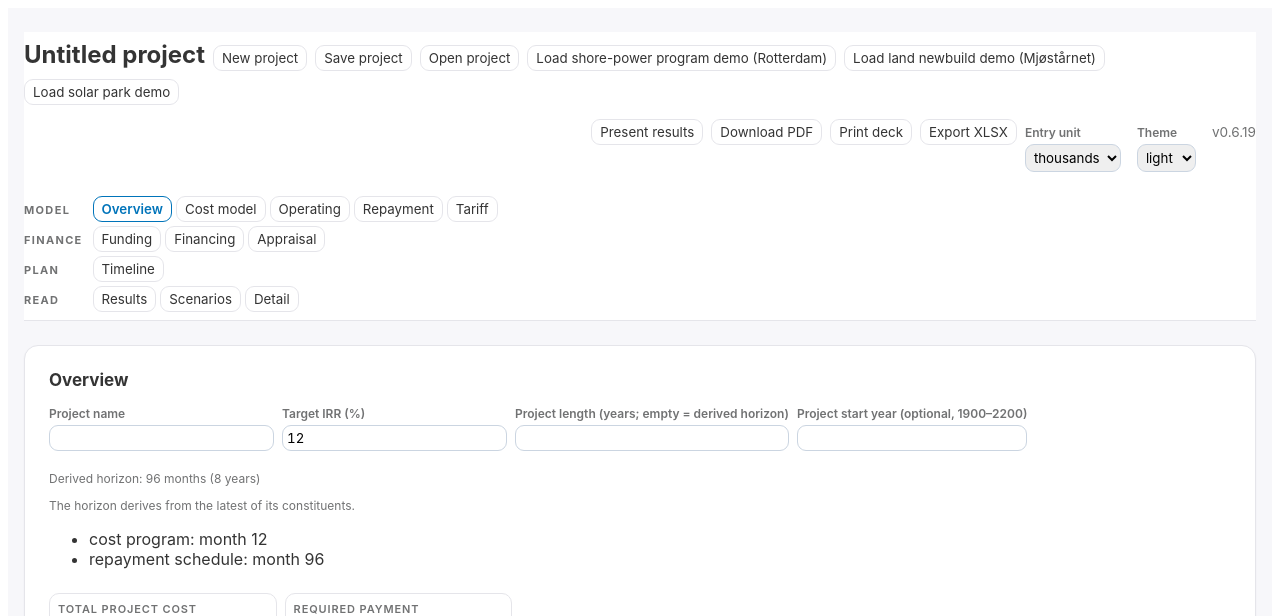
Scenario: Profile editor (Task B UI) › the amount field is inert for a CAPEX profile with overrides; the duration note explains why
Click the button "Load shore-power program demo (Rotterdam)" at (682, 58), box [527,45,836,71]
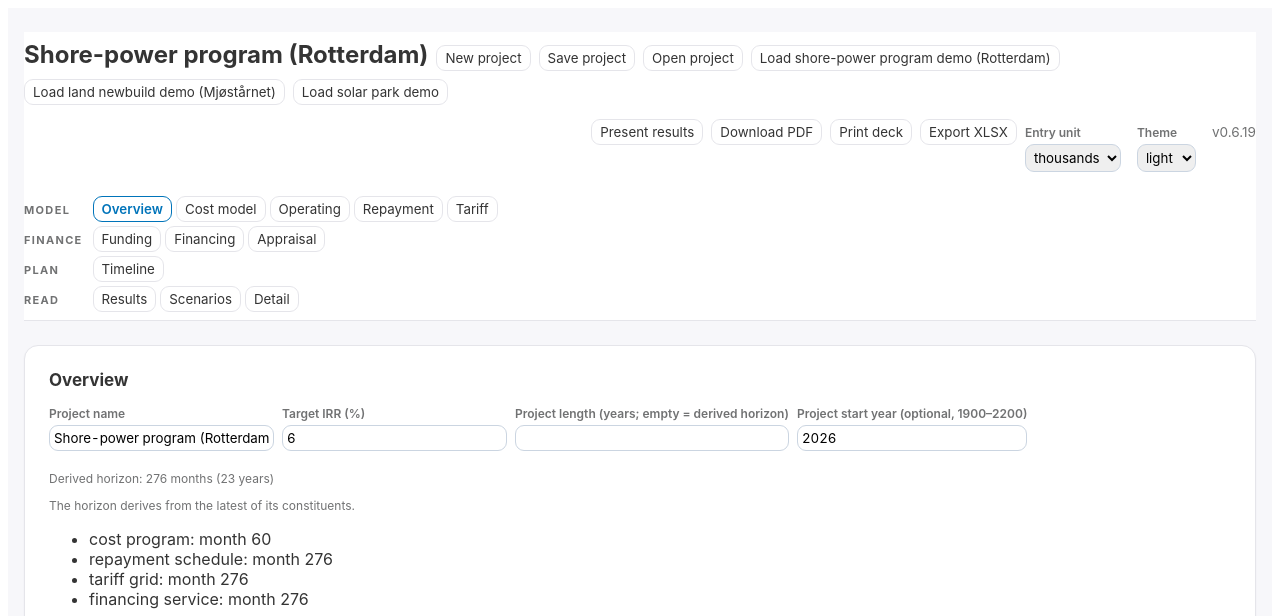
Click the button "Cost model" at (221, 209), box [176,196,266,222]
(page scrolled)
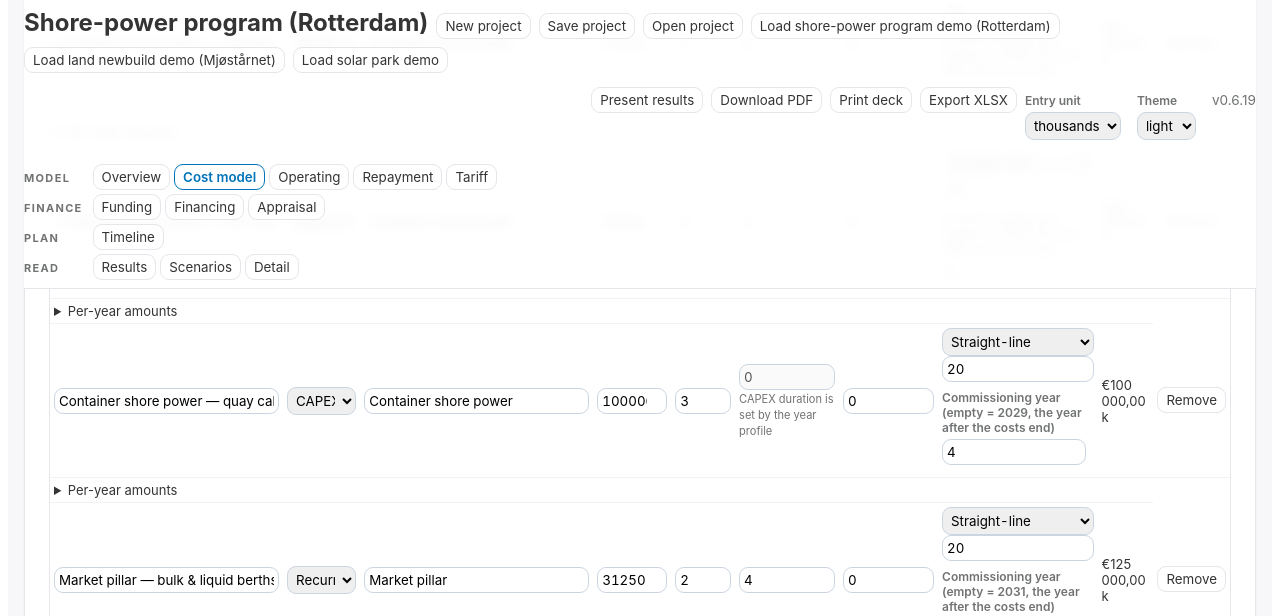
Expected: the 1st number field named "The lump amount" is enabled, [597,388,667,414]
Result: the text "CAPEX duration is set by the year profile" is shown at [739,392,834,438]
